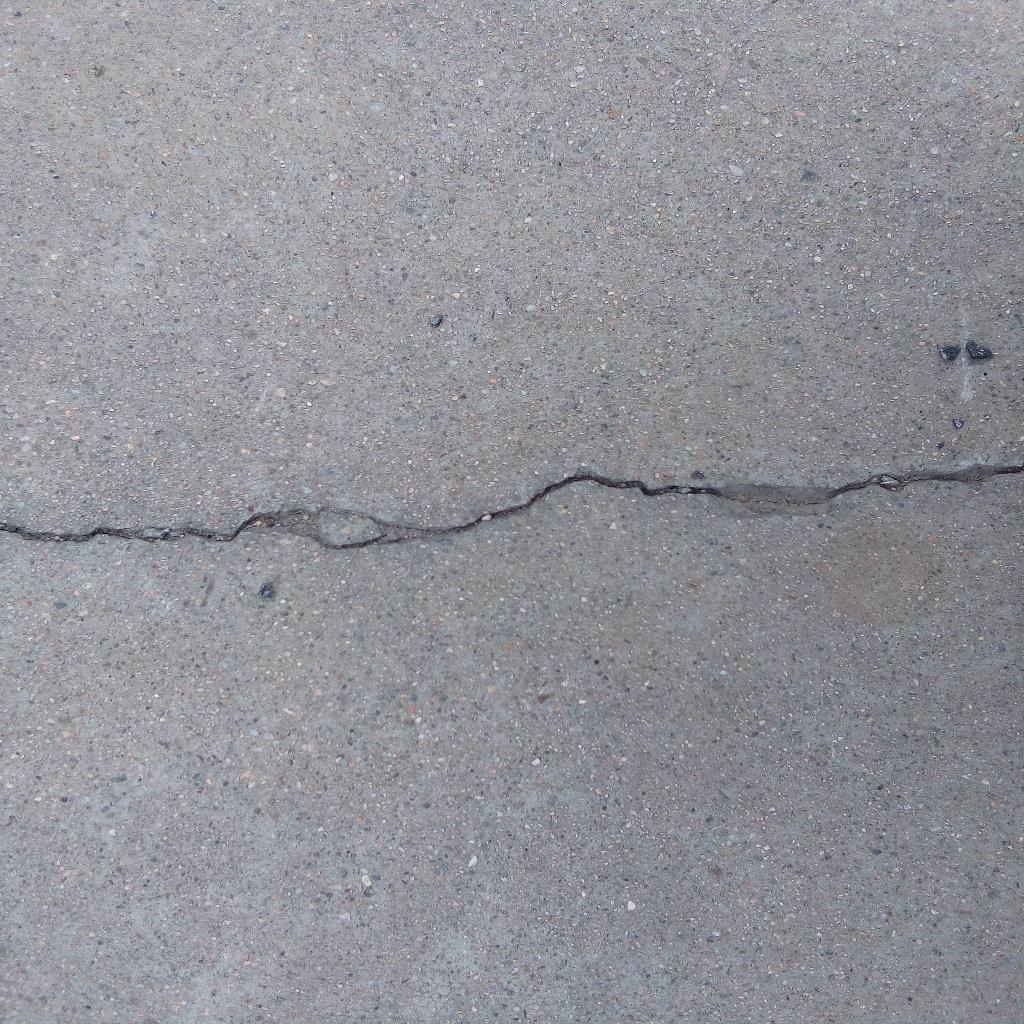Crack: (1, 460, 1024, 552)
